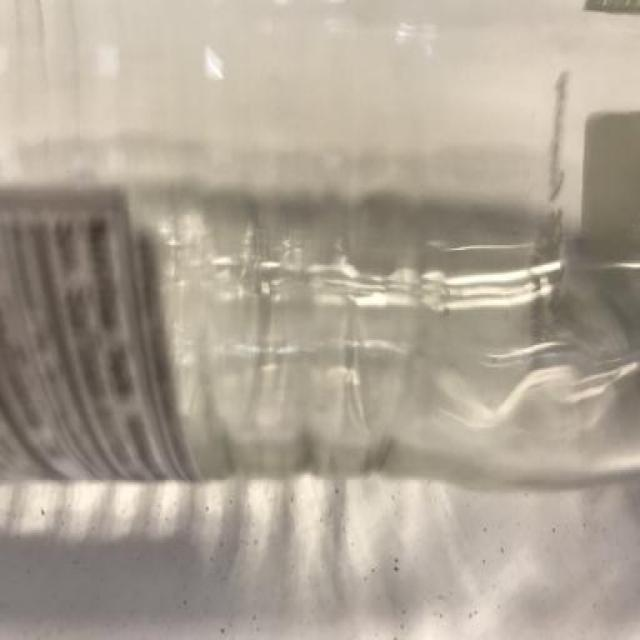plastic_bottle: (1, 5, 640, 569)
